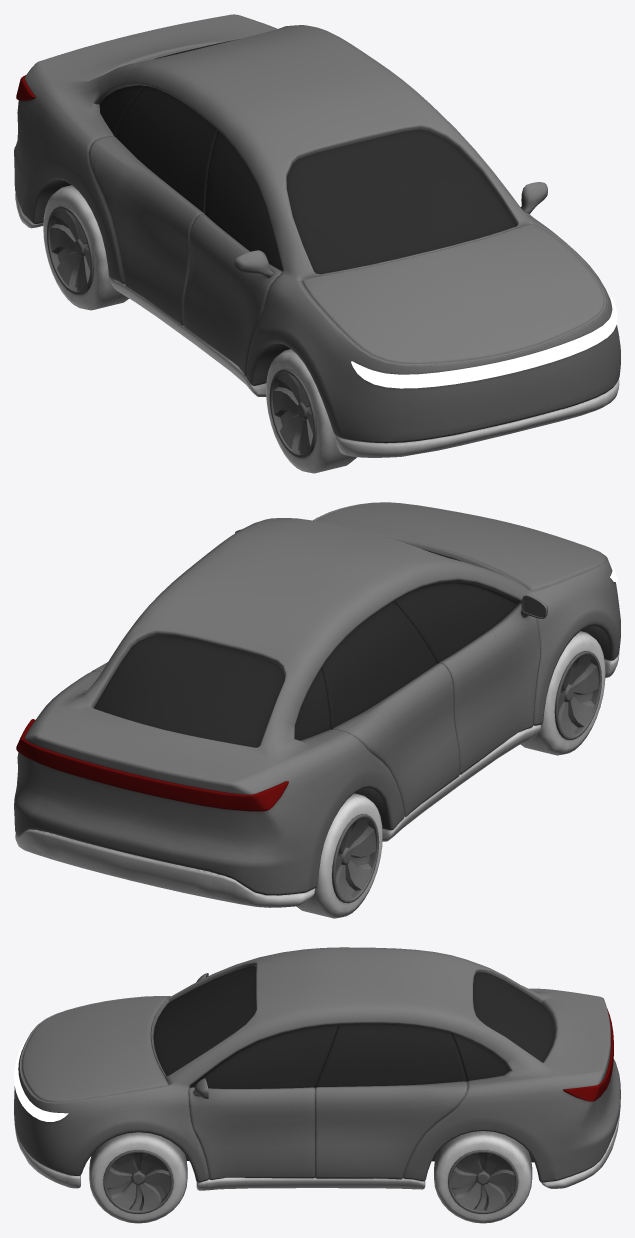
File: mbx-car_ego_light-concrete.glb
3 views of the same model, one above another, from view 1: azimuth 30°, elevation 25°; view 2: azimuth 150°, elevation 25°; view 3: azimuth 270°, elevation 25° (orthographic). The views are drawn at different scales.
Visible parts, largest first — view 1: mbx-car_ego_light-concrete; view 2: mbx-car_ego_light-concrete; view 3: mbx-car_ego_light-concrete.
Part boxes in pixels (bbox=[...]): mbx-car_ego_light-concrete: bbox=[14, 14, 620, 473]; mbx-car_ego_light-concrete: bbox=[14, 502, 620, 918]; mbx-car_ego_light-concrete: bbox=[14, 947, 620, 1223].
Bounding box in the file's own units: 19.35 × 15.22 × 42.19.
5 materials, 5 textured.
